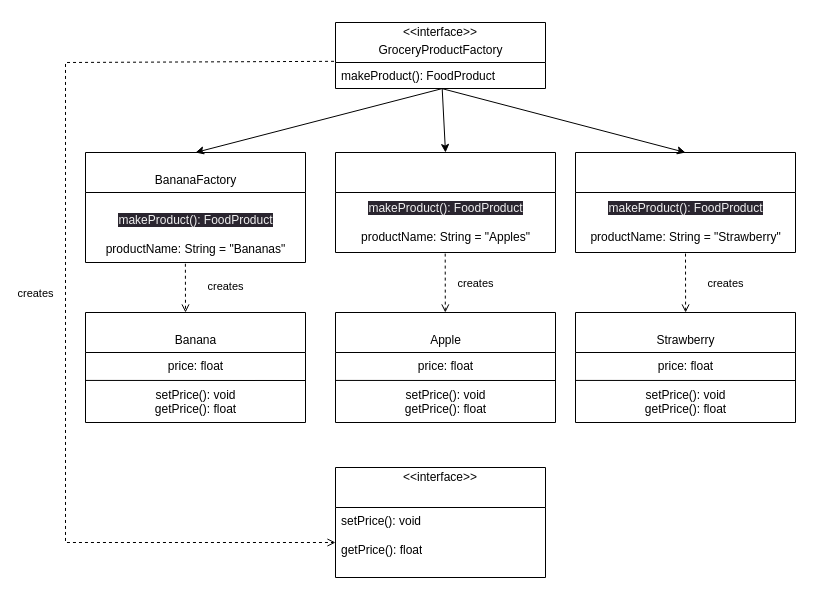
This 814x597 diagram has some shape labels left out. The box of each missing label's shape, as (x1, y1, x2, y2) in pixels:
AppleFactory: (334, 152, 556, 252)
GroceryProduct: (334, 466, 546, 578)
StrawberryFactory: (574, 152, 796, 252)
